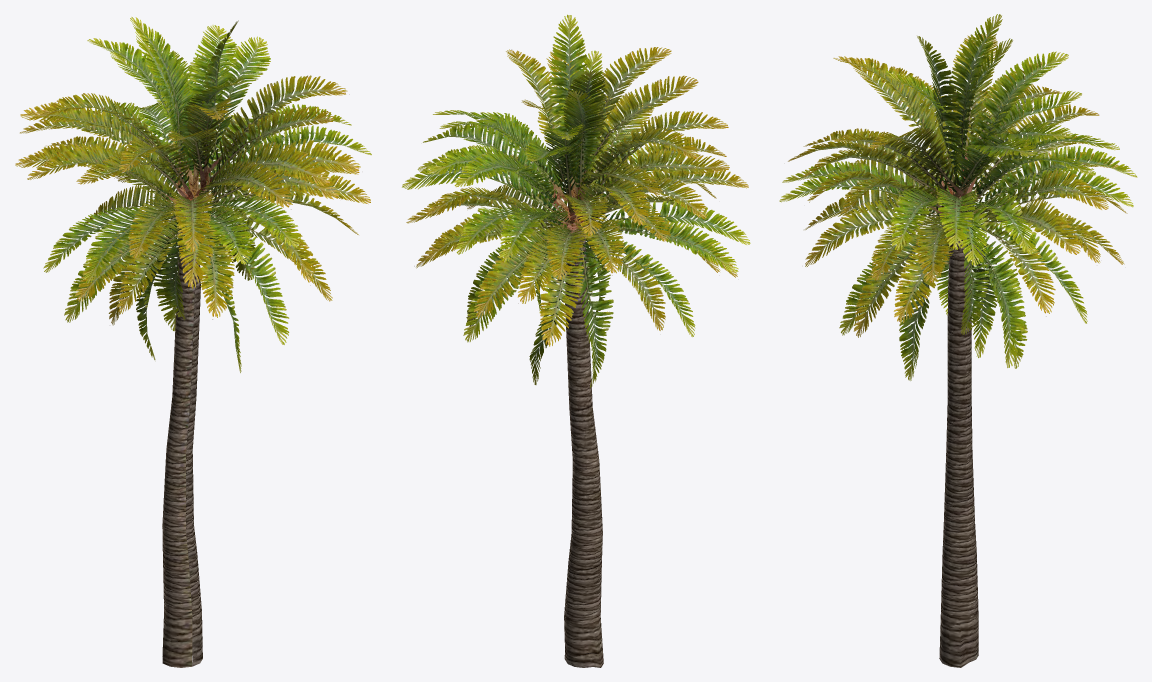
File: p_palm.glb
The picture shows the model from 3 angles, left to right: view 1: azimuth 30°, elevation 25°; view 2: azimuth 150°, elevation 25°; view 3: azimuth 270°, elevation 25°; orthographic projection. The views are drawn at different scales.
Visible parts, largest first — view 1: palm.001_Palm Hamza_0; view 2: palm.001_Palm Hamza_0; view 3: palm.001_Palm Hamza_0.
Boxes of the visible parts, box(x1,y1,x2,y2) form: palm.001_Palm Hamza_0: box(15, 17, 371, 667); palm.001_Palm Hamza_0: box(402, 14, 750, 667); palm.001_Palm Hamza_0: box(779, 14, 1137, 667).
Bounding box in the file's own units: 3.68 × 7.16 × 3.63.
Materials: 1 (1 with a texture image).
